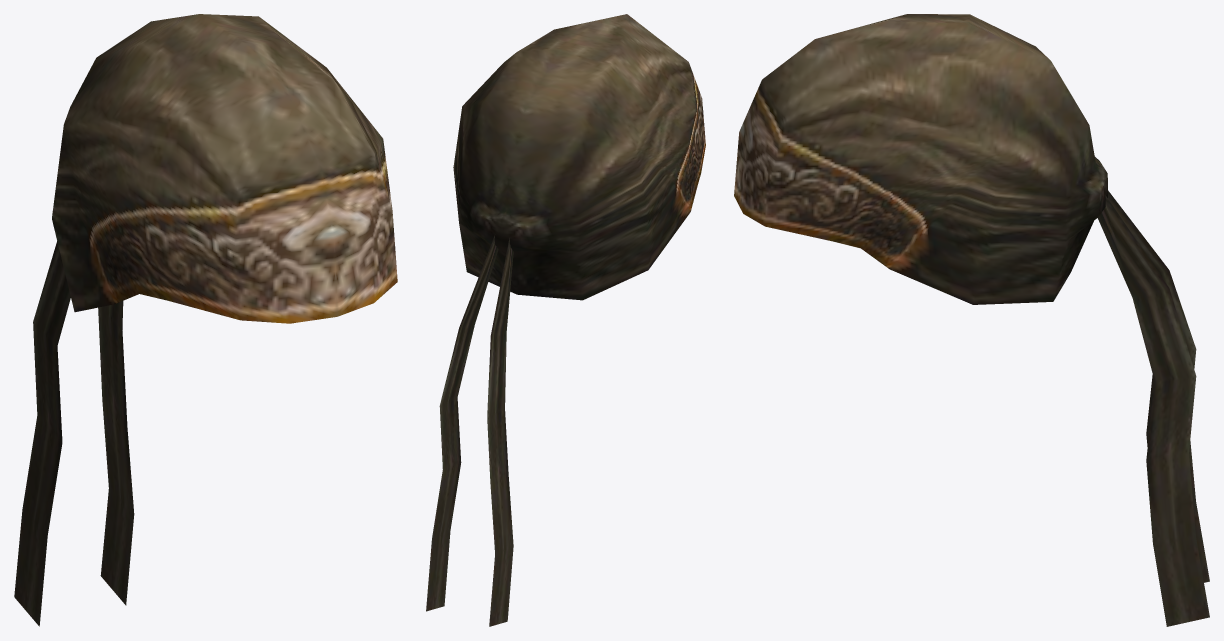
Rendered from light_01_ha.glb.
The picture shows the model from 3 angles, left to right: view 1: azimuth 30°, elevation 25°; view 2: azimuth 150°, elevation 25°; view 3: azimuth 270°, elevation 25°; orthographic projection. The views are drawn at different scales.
Visible parts, largest first — view 1: Light_01_ha; view 2: Light_01_ha; view 3: Light_01_ha.
Part boxes in pixels (left/top/right/bottom): Light_01_ha: left=14, top=14, right=397, bottom=626; Light_01_ha: left=426, top=14, right=705, bottom=626; Light_01_ha: left=734, top=14, right=1209, bottom=626.
Size of the model in its own units: 0.1421 by 0.3471 by 0.2549.
1 material, 1 textured.
